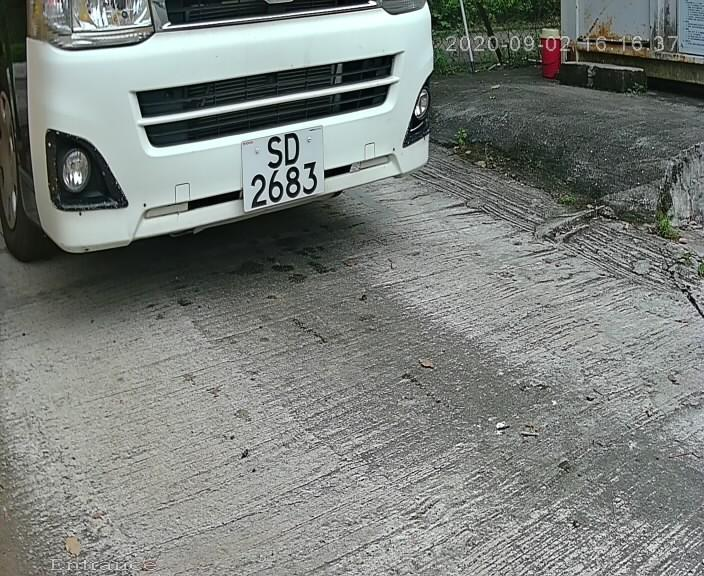Car: (10, 8, 472, 296)
License Plate: (233, 119, 337, 219)
